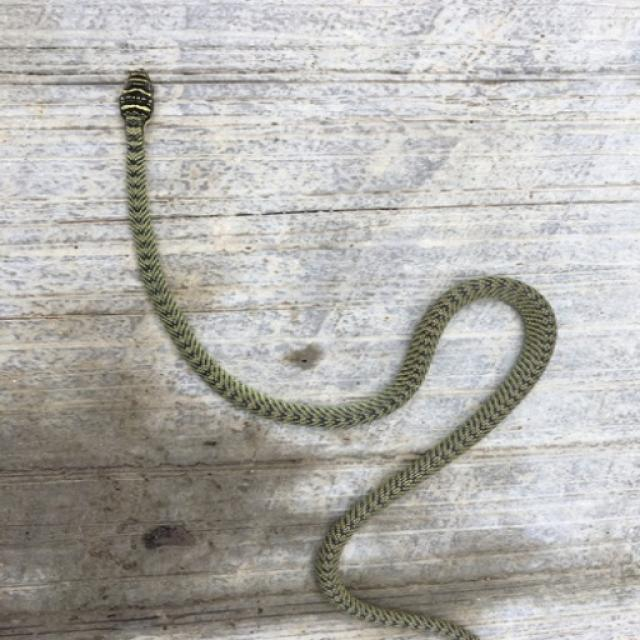snake: (104, 58, 595, 640)
